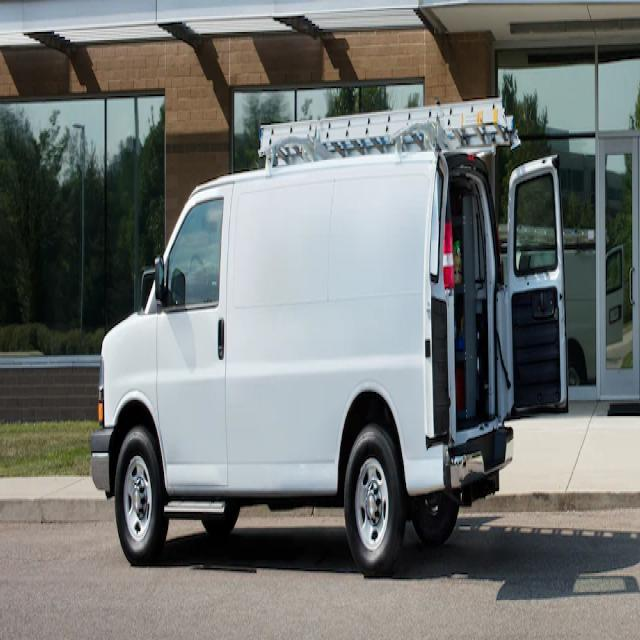truck: (89, 96, 569, 574)
